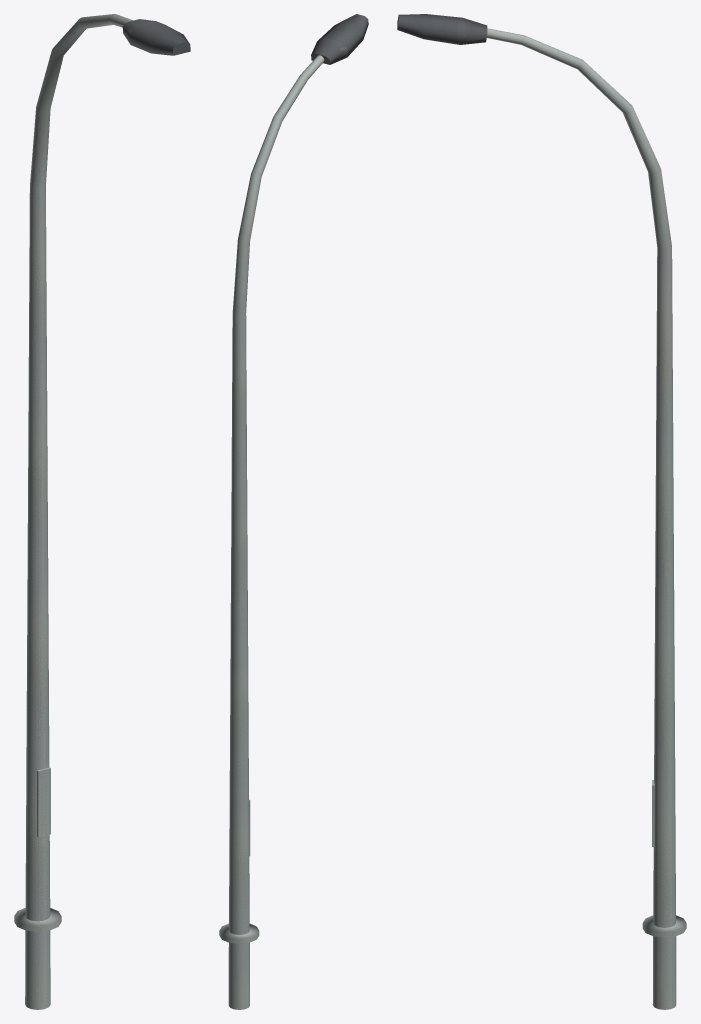
File: streetlamp.glb
3 views of the same model, side by side, from view 1: azimuth 30°, elevation 25°; view 2: azimuth 150°, elevation 25°; view 3: azimuth 270°, elevation 25° (orthographic). The views are drawn at different scales.
Visible parts, largest first — view 1: Streetlamp_Pole, Streetlamp_Housing; view 2: Streetlamp_Pole, Streetlamp_Housing; view 3: Streetlamp_Pole, Streetlamp_Housing.
Boxes of the visible parts, <box> form: Streetlamp_Pole: <box>14,14,133,1009</box>; Streetlamp_Housing: <box>122,19,190,55</box>; Streetlamp_Pole: <box>219,55,324,1009</box>; Streetlamp_Housing: <box>311,14,368,64</box>; Streetlamp_Pole: <box>486,28,686,1009</box>; Streetlamp_Housing: <box>397,14,487,44</box>.
Bounding box in the file's own units: 0.26 × 6.45 × 1.71.
3 materials, 2 textured.
